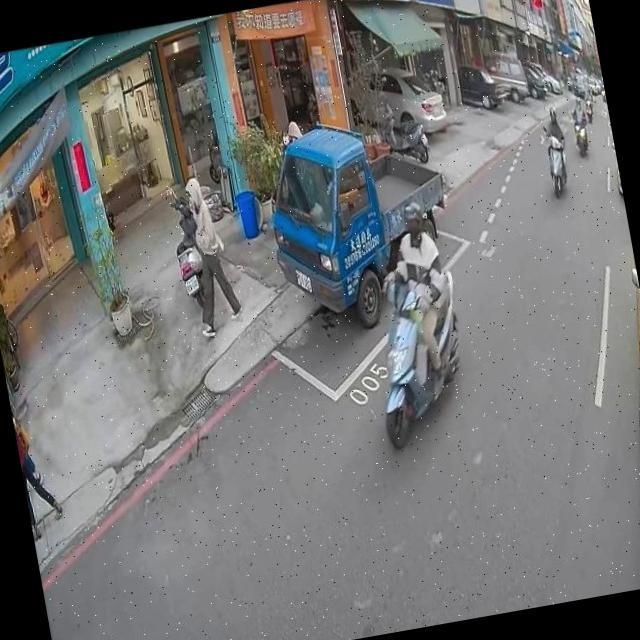person: (372, 184, 470, 399), (168, 165, 246, 338), (10, 397, 65, 538), (537, 104, 567, 152), (281, 117, 305, 147), (569, 97, 587, 129), (278, 124, 292, 150), (580, 82, 591, 102)
